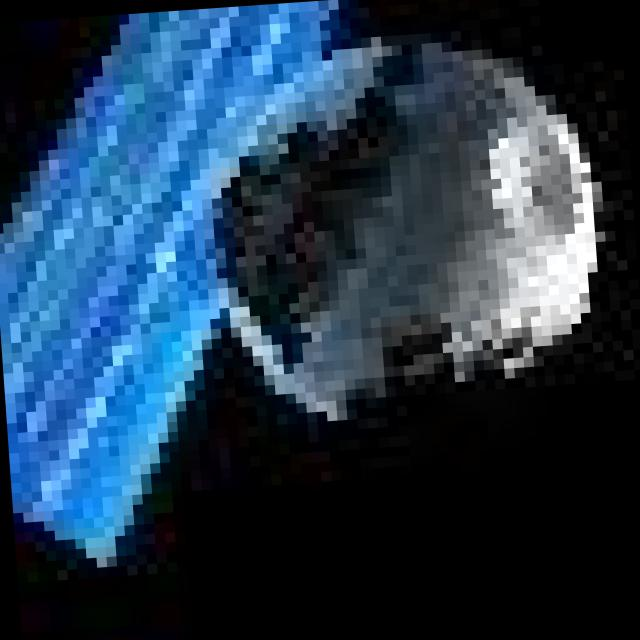Death Star: (188, 21, 616, 430)
